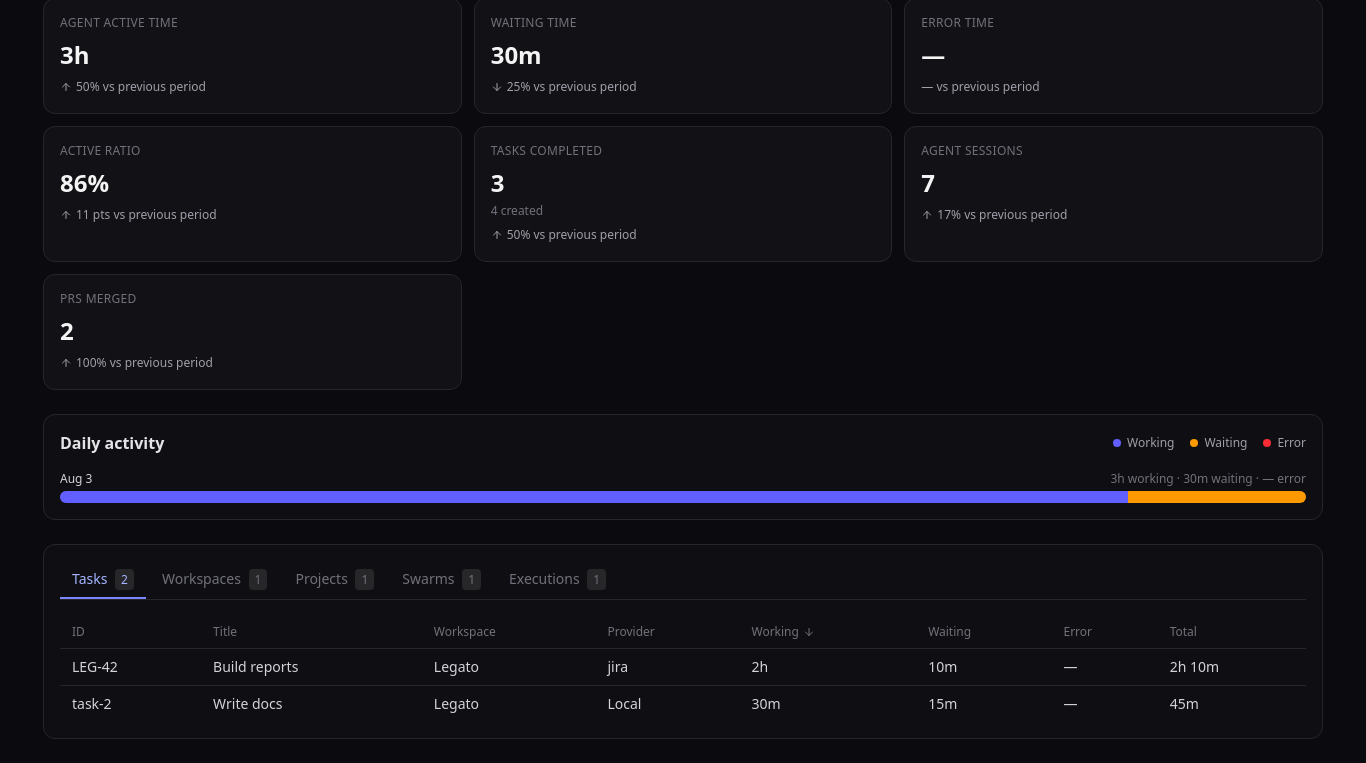
it: ReportsPage › switches counted breakdown tabs, sorts numeric columns, and preserves empty states
(page scrolled)
Expected: the row "LEG-42 Build reports Legato jira 2h 10m — 2h 10m" is shown, [60,648,1306,686]
Click the button "Waiting": (950, 632) [928,624,971,640]
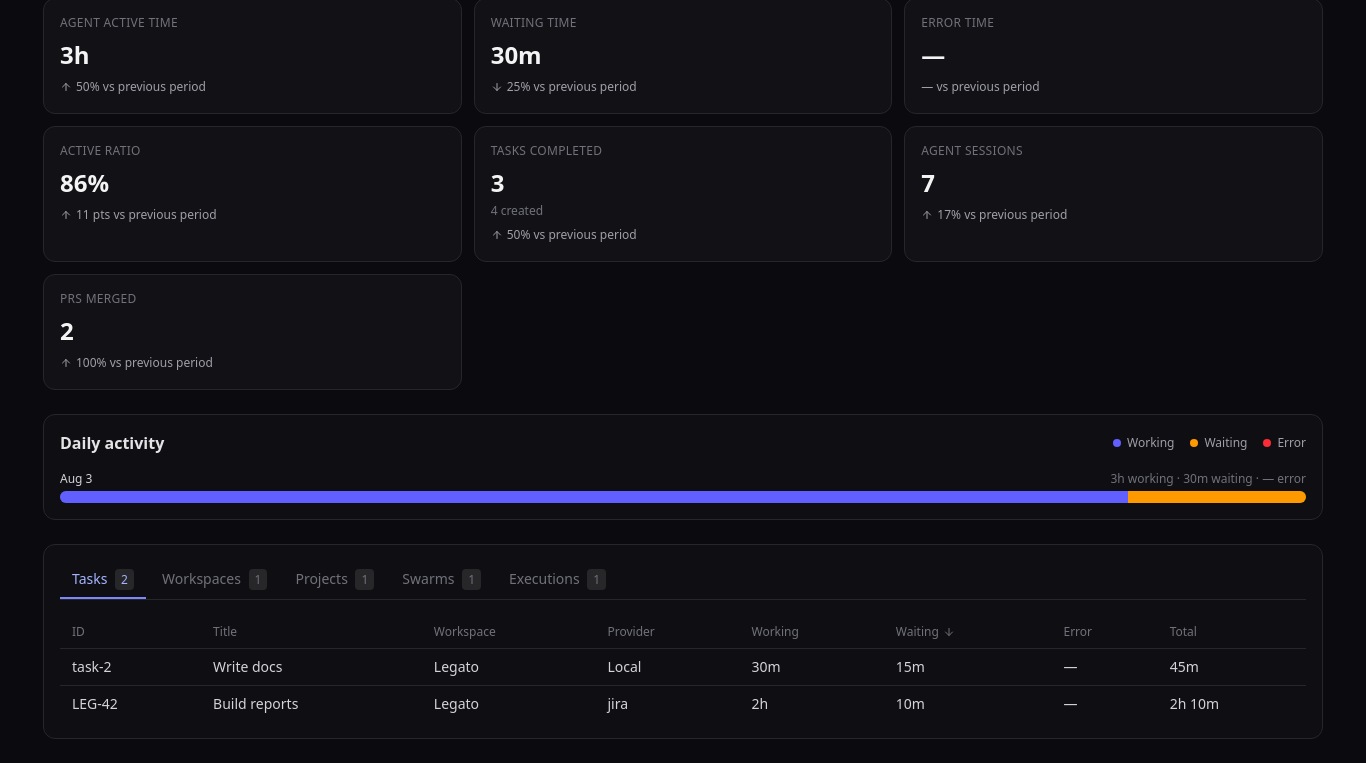
Expected: the row "task-2 Write docs Legato Local 30m 15m — 45m" is shown, [60,648,1306,686]
Click the tab "Projects 1": (335, 580) [283,561,386,599]
(page scrolled)
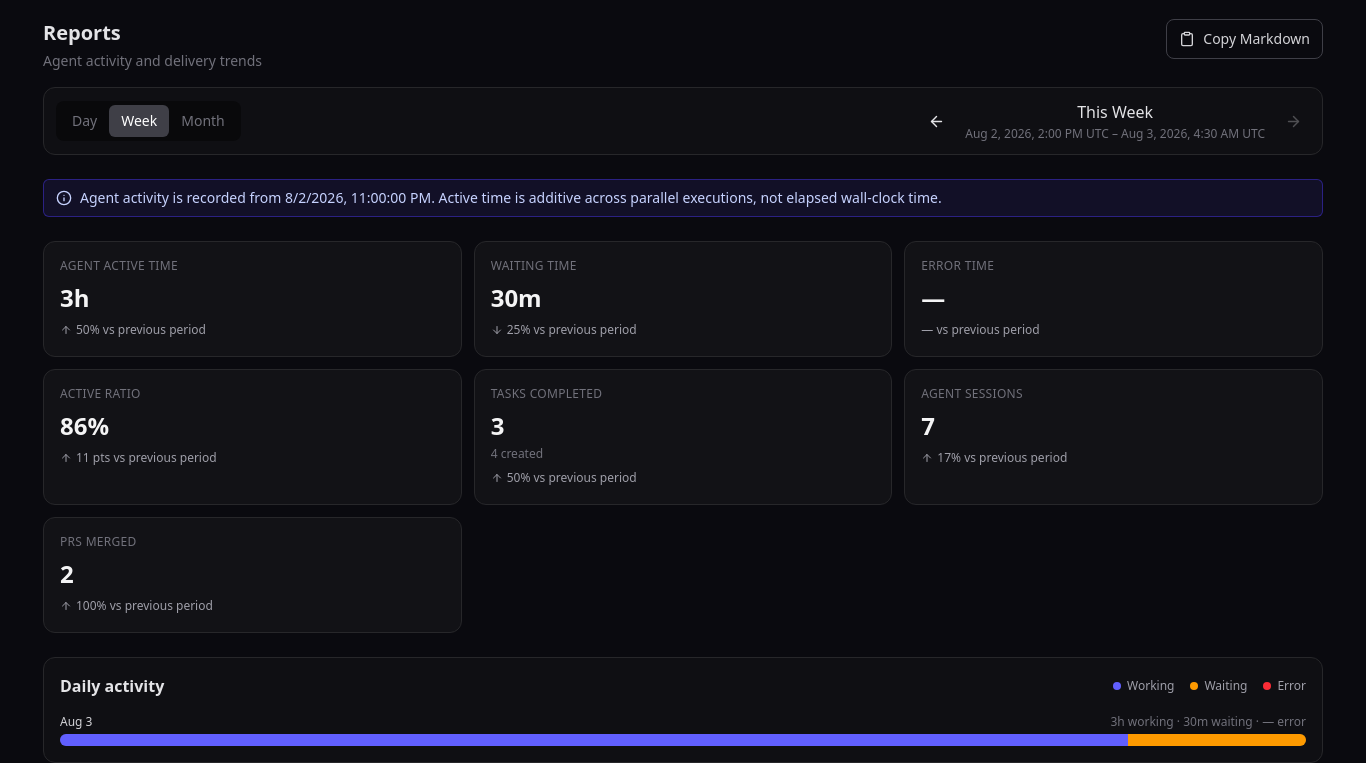
Click the button "Month": (203, 121) [169,105,237,137]
(page scrolled)
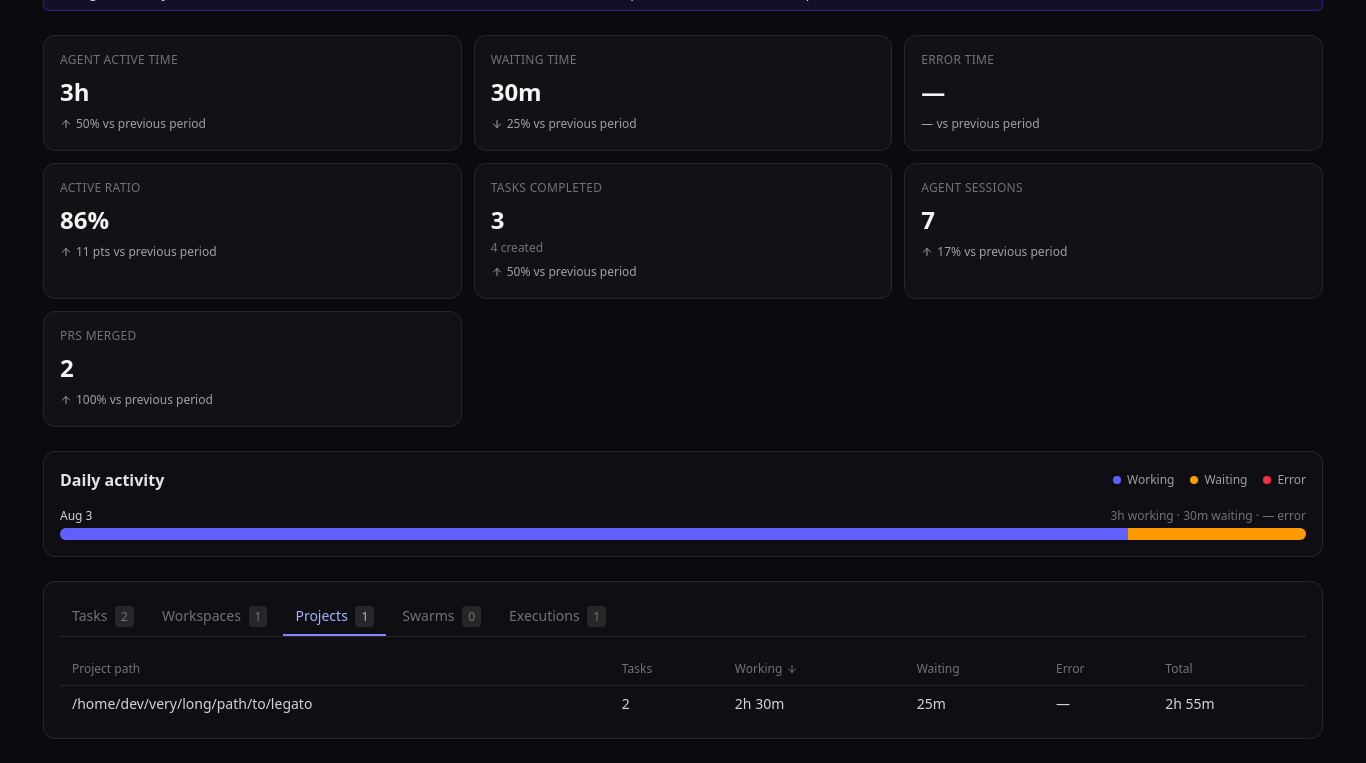
Result: the tab "Swarms 0" is shown
Click the tab "Swarms 0": (442, 617) [390,598,493,636]
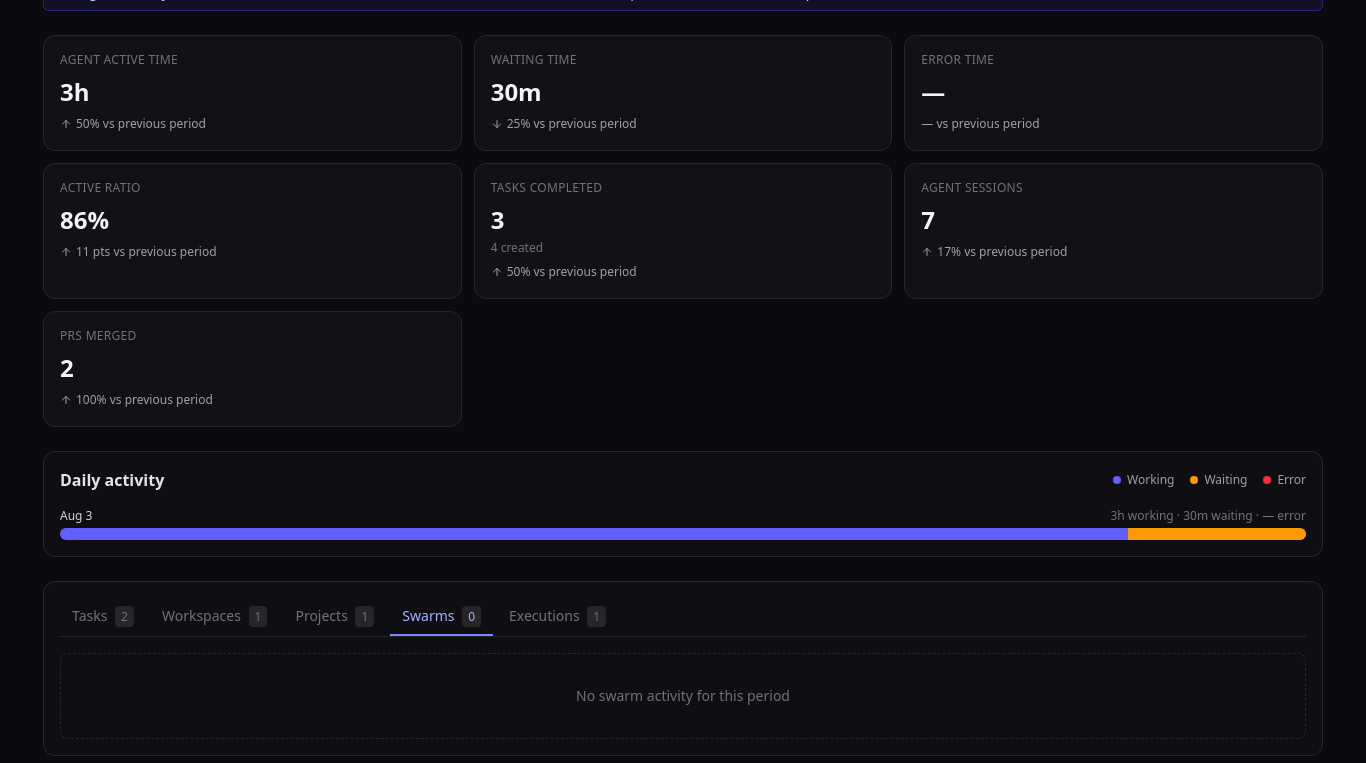
Result: the text "No swarm activity for this period" is shown at [60,653,1306,739]
Click the tab "Executions 1": (558, 617) [497,598,618,636]
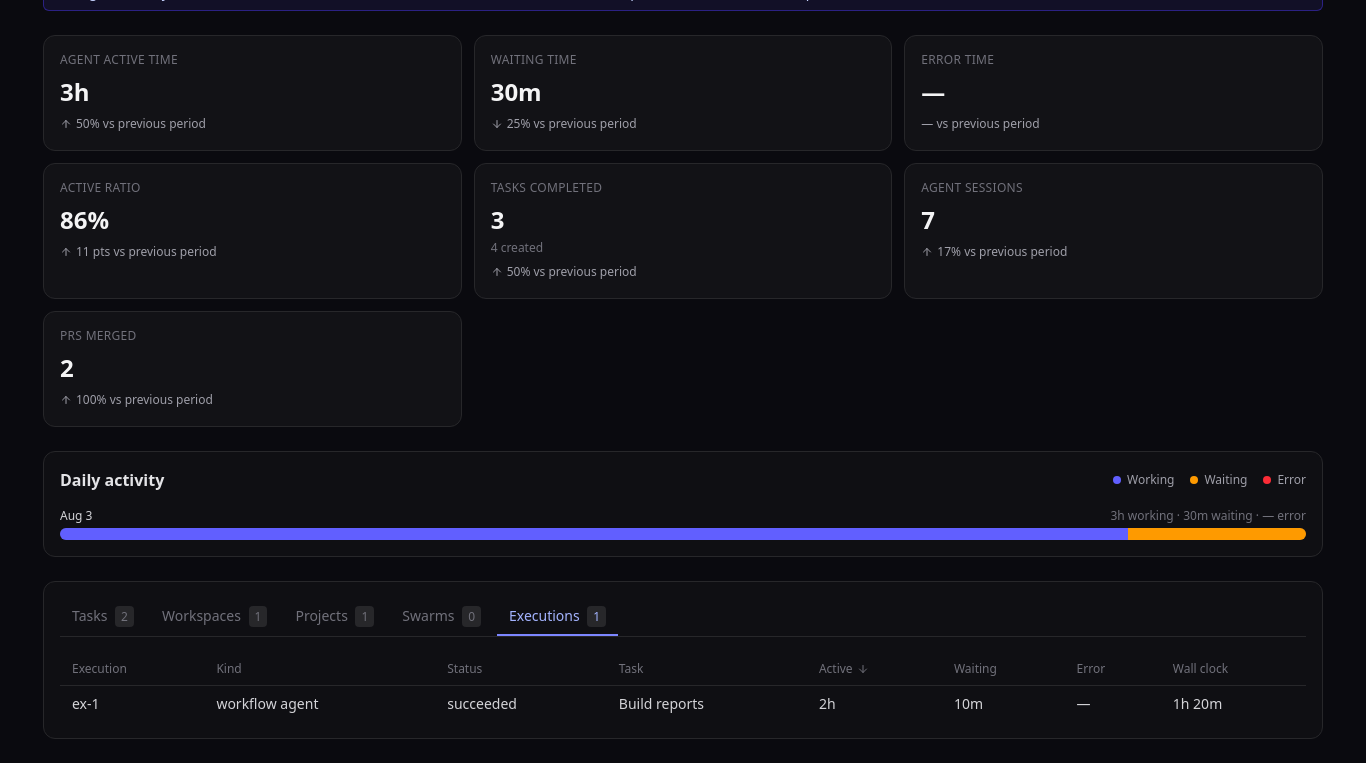
Result: the table named "Executions breakdown" is shown at [60,653,1306,722]
Result: the text "workflow agent" is shown at [204,686,435,722]
